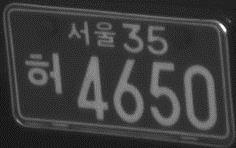0: (182, 62, 218, 130)
3: (120, 21, 144, 54)
4: (75, 53, 109, 122)
5: (148, 59, 182, 128), (145, 23, 168, 57)
6: (113, 58, 145, 124)
서울_O: (66, 20, 116, 48)
허: (24, 50, 64, 95)
